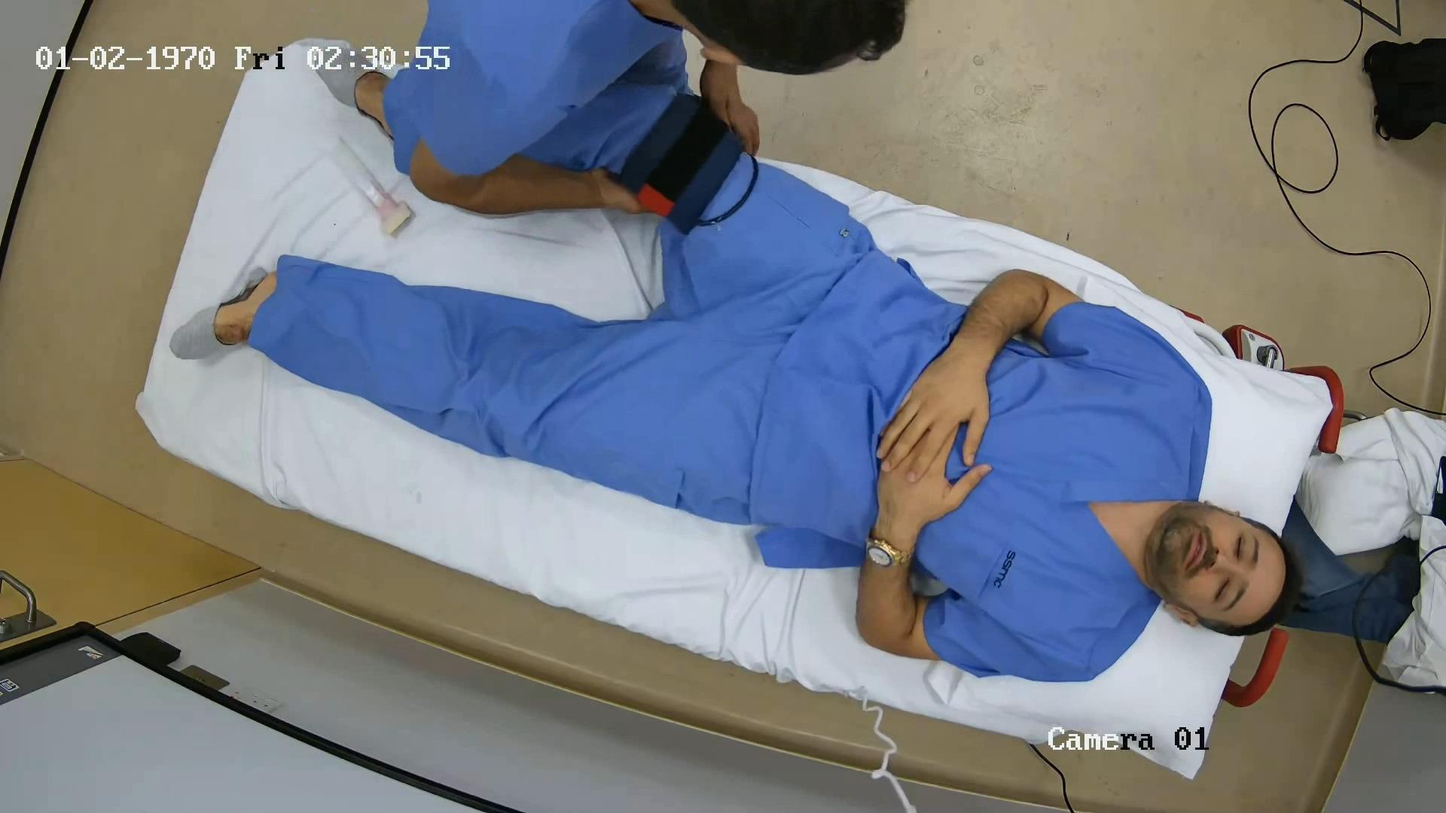bed: (134, 44, 1339, 788)
patient: (172, 78, 1306, 681)
prepstick: (339, 157, 412, 236)
tourniquet: (617, 93, 743, 233)
